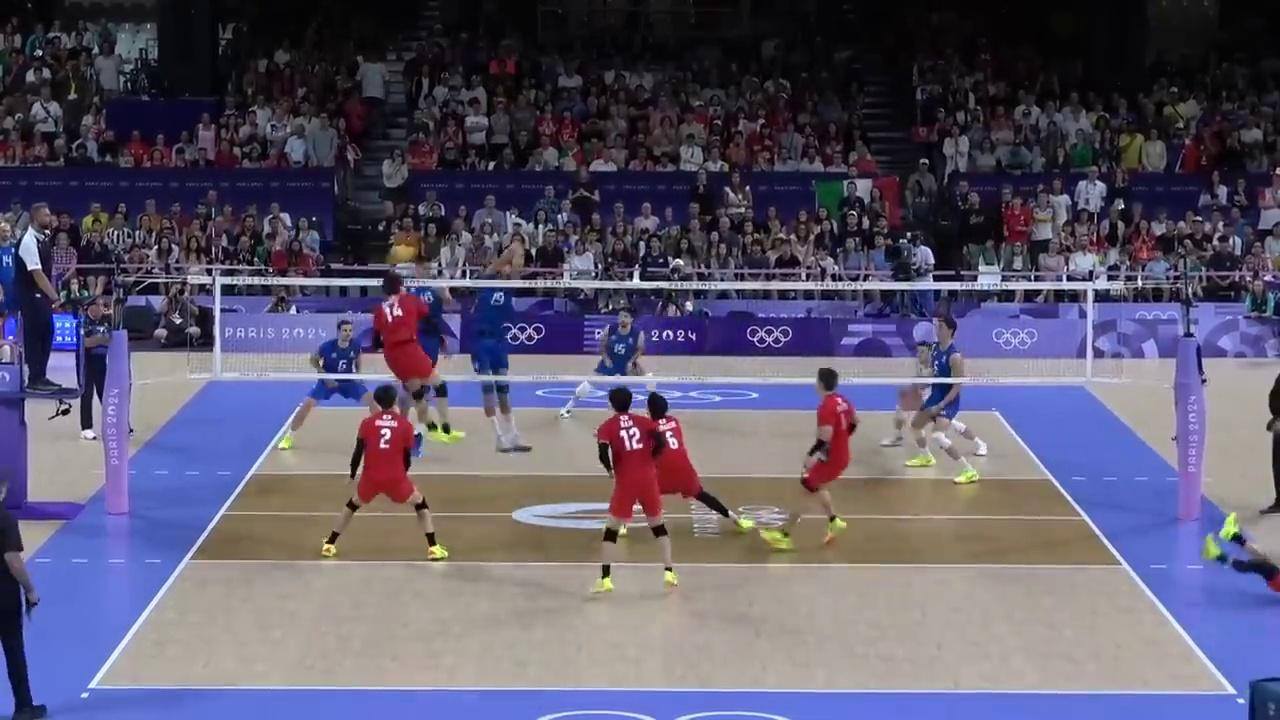ball: (388, 244, 419, 266)
